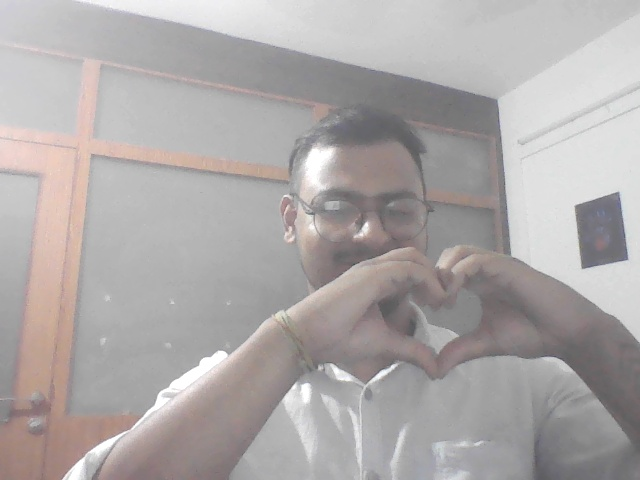Heart: (323, 238, 572, 380)
